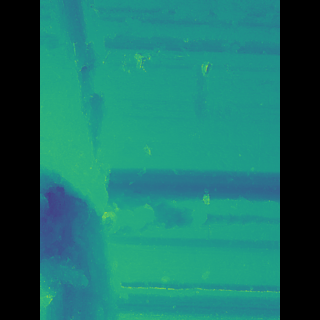Loch: (69, 0, 136, 320), (179, 0, 222, 149), (122, 189, 240, 242), (153, 251, 195, 305)
